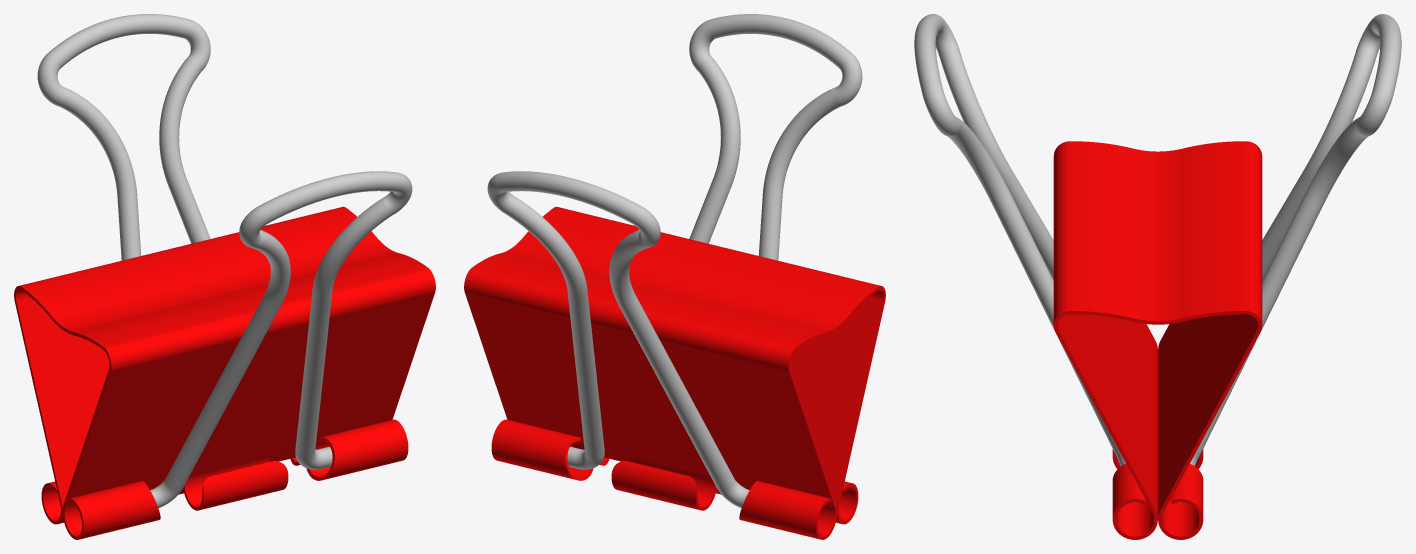
File: medium5fb.glb
The picture shows the model from 3 angles, left to right: view 1: azimuth 30°, elevation 25°; view 2: azimuth 150°, elevation 25°; view 3: azimuth 270°, elevation 25°; orthographic projection. The views are drawn at different scales.
Visible parts, largest first — view 1: EdgeFillet.5, Mirror.7; view 2: EdgeFillet.5, Mirror.7; view 3: EdgeFillet.5, Mirror.7.
Boxes of the visible parts, x1,y1,x2,y2 form: EdgeFillet.5: [14, 206, 435, 539]; Mirror.7: [37, 14, 412, 508]; EdgeFillet.5: [464, 206, 885, 539]; Mirror.7: [487, 14, 862, 508]; EdgeFillet.5: [1053, 141, 1262, 539]; Mirror.7: [914, 14, 1401, 502].
Size of the model in its own units: 0.096 by 0.111 by 0.1165.
